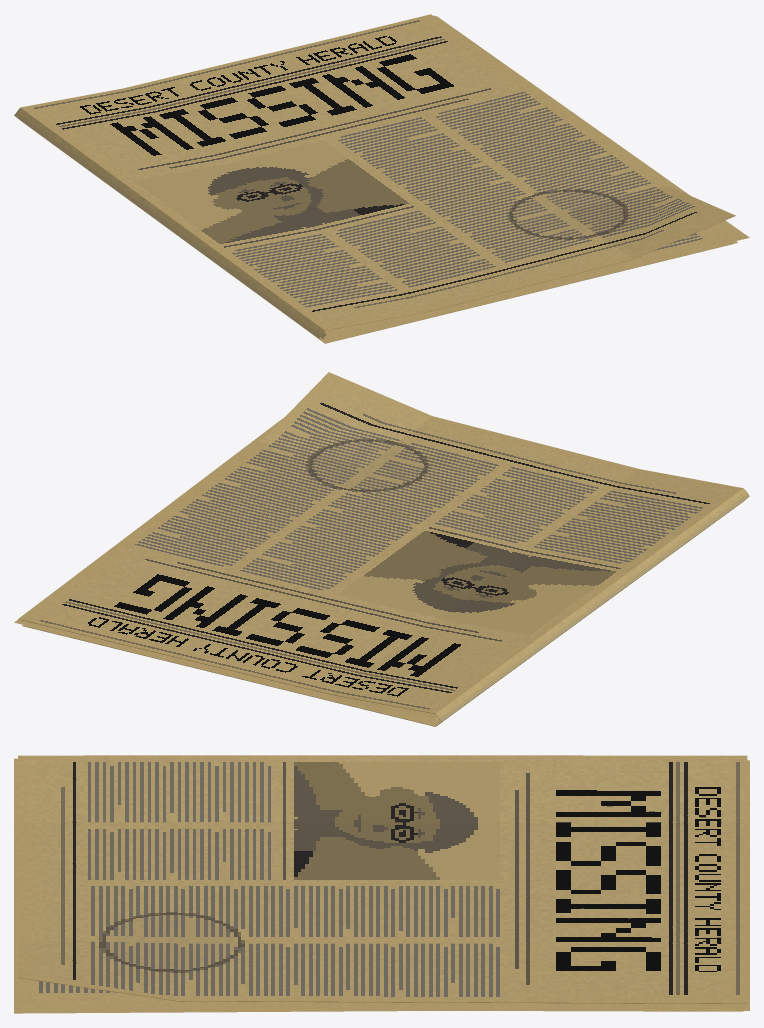
File: SM_Motel_Newspaper.glb
3 views of the same model, one above another, from view 1: azimuth 30°, elevation 25°; view 2: azimuth 150°, elevation 25°; view 3: azimuth 270°, elevation 25° (orthographic). The views are drawn at different scales.
Parts seen in each view (by area): view 1: SM_Motel_Newspaper; view 2: SM_Motel_Newspaper; view 3: SM_Motel_Newspaper.
Boxes of the visible parts, <box> form: SM_Motel_Newspaper: <box>14,14,749,343</box>; SM_Motel_Newspaper: <box>14,372,749,726</box>; SM_Motel_Newspaper: <box>14,755,749,1013</box>.
Size of what is drawn, in the model's own units: 0.309 by 0.0192 by 0.3834.
2 materials, 2 textured.
